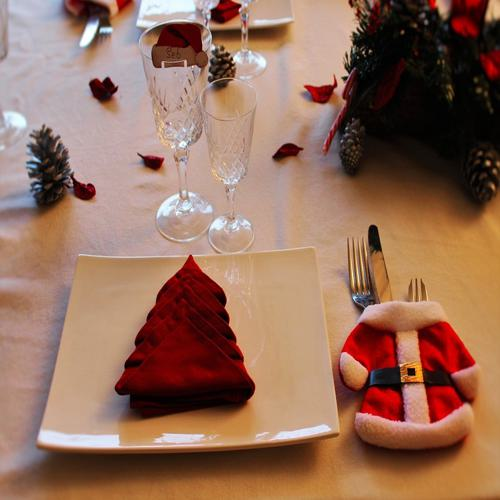copa: (136, 27, 219, 246), (200, 80, 260, 251)
